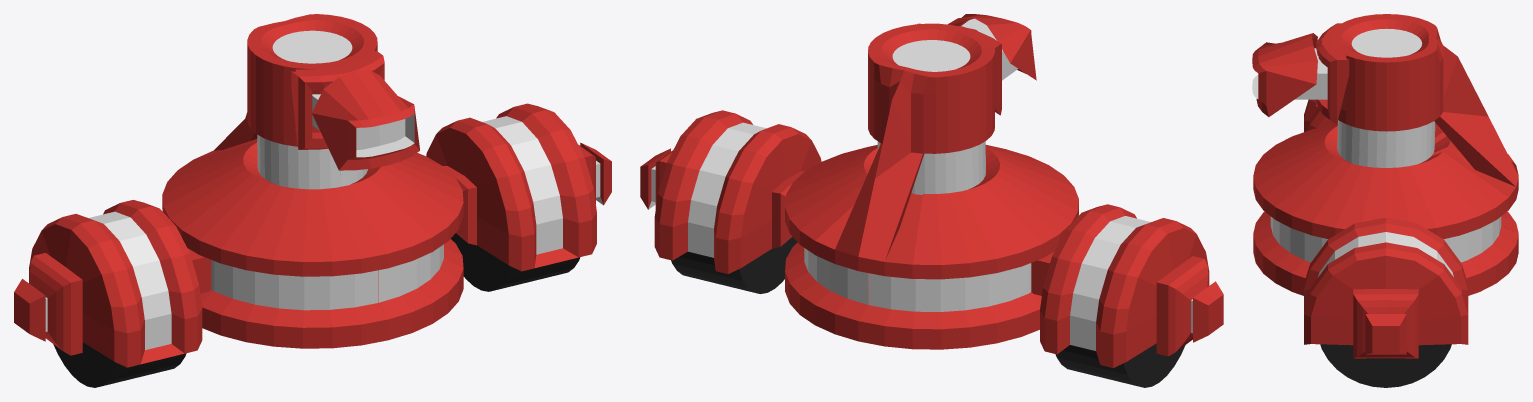
Rendered from Robo_Fast.fbx.
The picture shows the model from 3 angles, left to right: view 1: azimuth 30°, elevation 25°; view 2: azimuth 150°, elevation 25°; view 3: azimuth 270°, elevation 25°; orthographic projection. The views are drawn at different scales.
Visible parts, largest first — view 1: Cylinder; view 2: Cylinder; view 3: Cylinder.
Boxes of the visible parts, x1,y1,x2,y2 form: Cylinder: (14, 14, 611, 387); Cylinder: (640, 14, 1223, 387); Cylinder: (1252, 14, 1518, 387).
Size of the model in its own units: 446 by 209 by 201.
